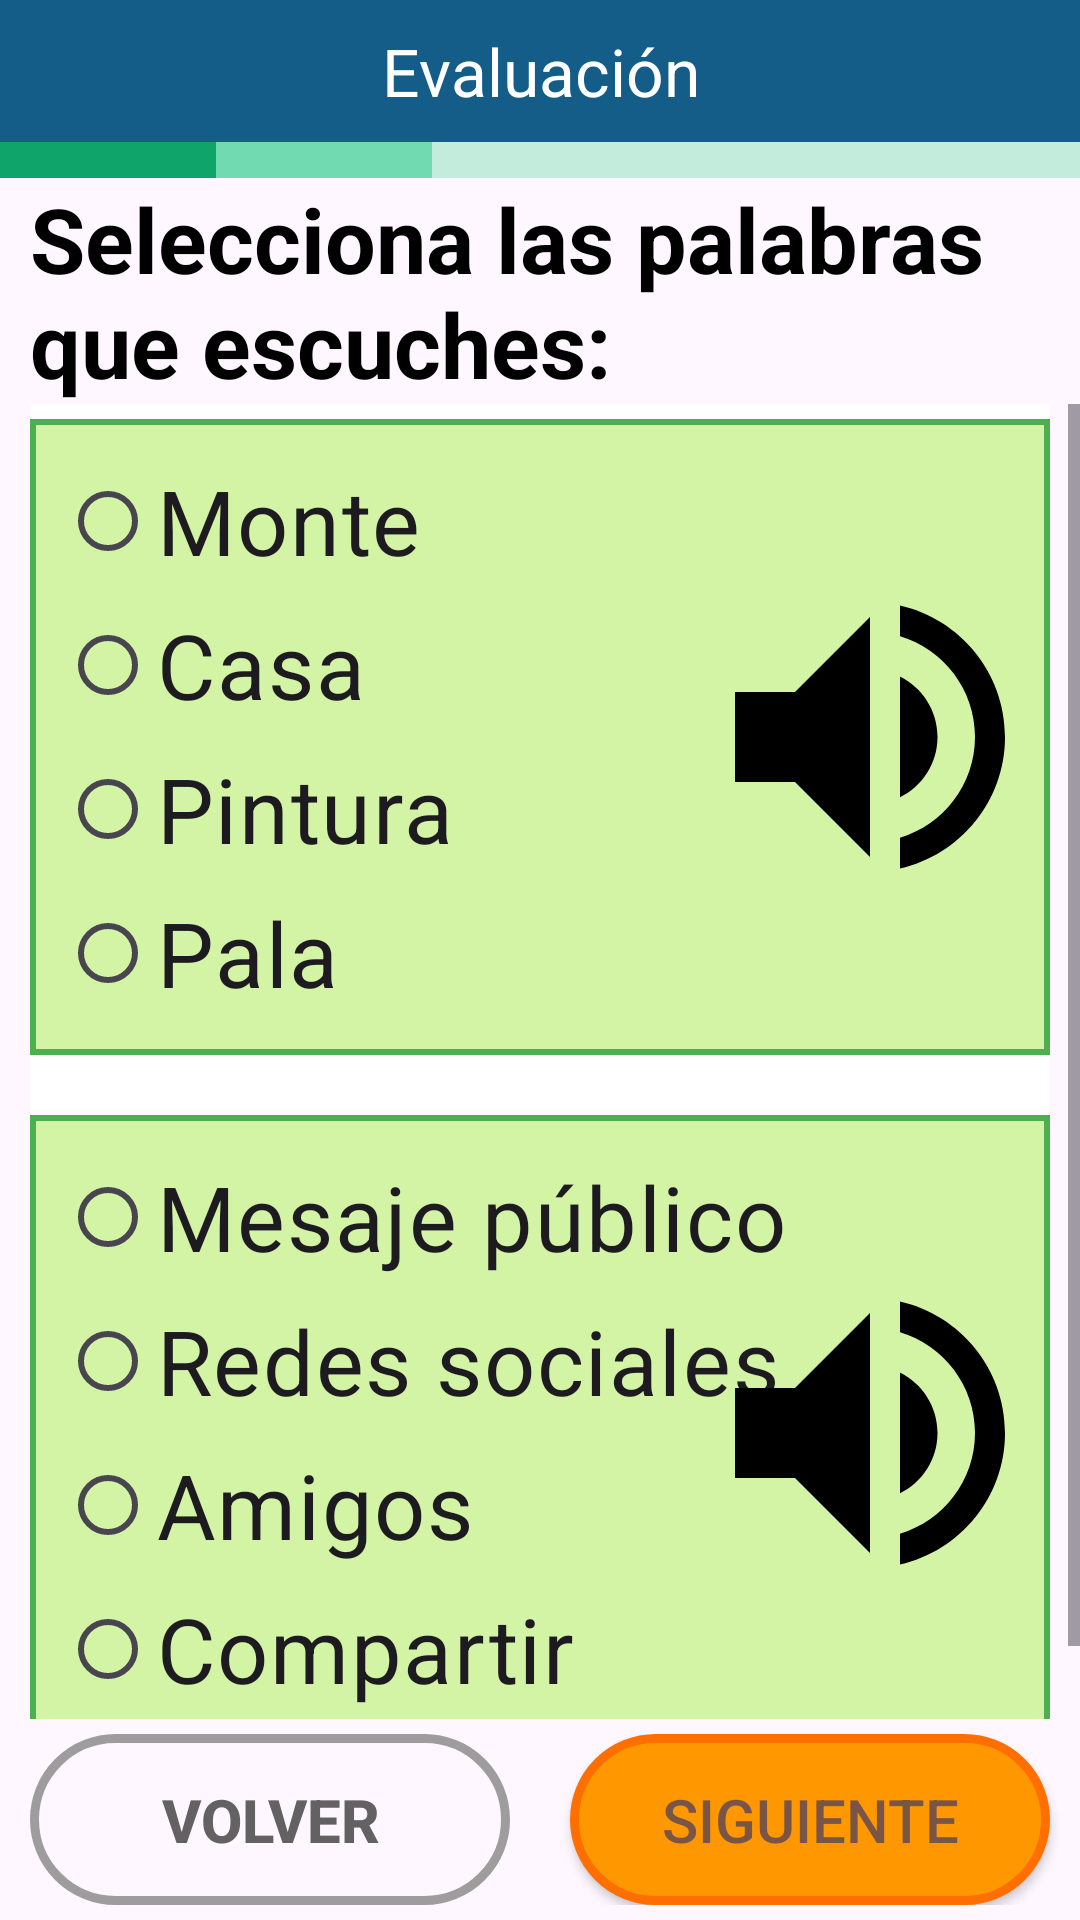

Where icons sit on this 1080px x 1920px app screen, as (x1, y1, x2, y2):
Audio 1: (735, 605, 1005, 869)
Audio 2: (690, 1301, 1005, 1565)
